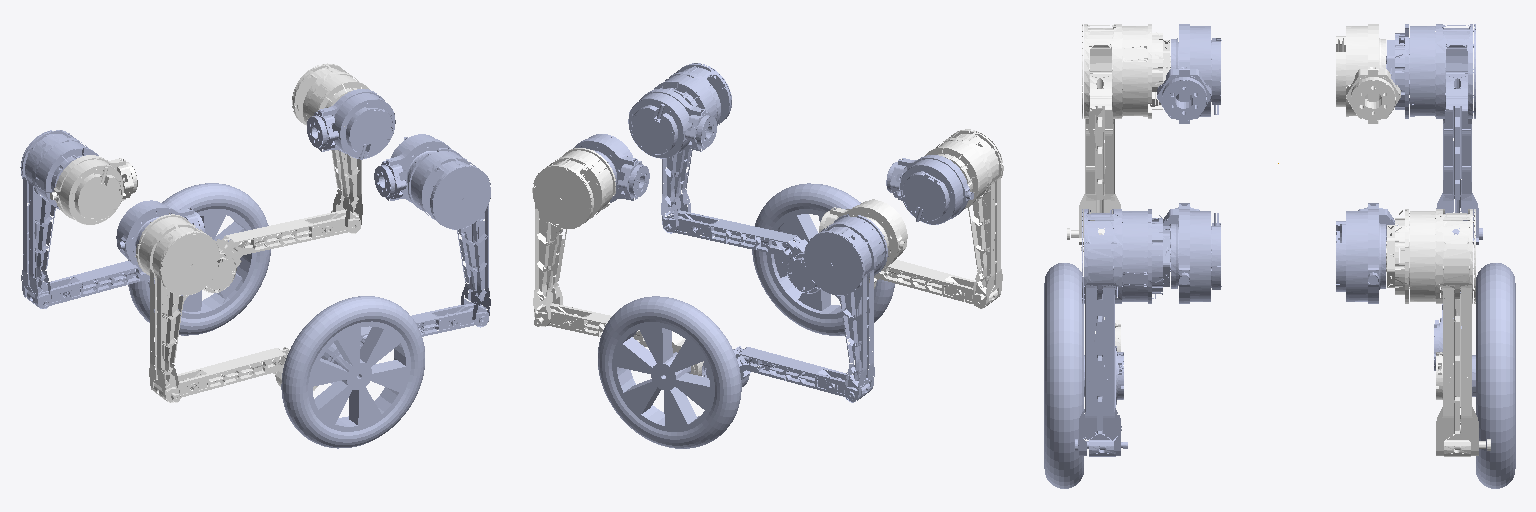
URDF robot description (njust_v2_fixed):
<?xml version="1.0" encoding="utf-8"?>
<robot name="njust_v2_fixed">

    <material name="black">
        <color rgba="0.0 0.0 0.0 1.0"/>
    </material>
    <material name="blue">
        <color rgba="0.0 0.0 0.8 1.0"/>
    </material>
    <material name="green">
        <color rgba="0.0 0.8 0.0 1.0"/>
    </material>
    <material name="grey">
        <color rgba="0.2 0.2 0.2 1.0"/>
    </material>
    <material name="silver">
        <color rgba="0.9137254901960784 0.9137254901960784 0.8470588235294118 1.0"/>
    </material>
    <material name="orange">
        <color rgba="1.0 0.4235294117647059 0.0392156862745098 1.0"/>
    </material>
    <material name="brown">
        <color rgba="0.8705882352941177 0.8117647058823529 0.7647058823529411 1.0"/>
    </material>
    <material name="red">
        <color rgba="0.8 0.0 0.0 1.0"/>
    </material>
    <material name="white">
        <color rgba="1.0 1.0 1.0 1.0"/>
    </material>

    <link name="base">
        <visual>
            <origin rpy="0 0 0" xyz="0 0 0"/>
            <geometry>
                <box size="0.001 0.001 0.001"/>
            </geometry>
        </visual>
    </link>
    <joint name="floating_base" type="fixed">
        <origin rpy="0 0 0" xyz="0 0 0"/>
        <parent link="base"/>
        <child link="trunk"/>
    </joint>
    <link name="trunk">
        <visual>
            <origin rpy="0 0 0" xyz="0 0 0"/>
            <geometry>
                <mesh filename="package://lcm_tools/meshes/base_link_sensors.STL" scale="1 1 1"/>
            </geometry>
            <material name="orange"/>
        </visual>
        <collision>
            <origin rpy="0 0 0" xyz="0 0 0"/>
            <geometry>
                <mesh filename="package://lcm_tools/meshes/base_link_sensors.STL" scale="1 1 1"/>
            </geometry>
            <material name="orange"/>
        </collision>
        <!-- <collision>
            <geometry>
            <box size="0.234 0.184 0.08"/>
            </geometry>
        </collision> -->
        <inertial>
            <origin rpy="0 0 0" xyz="0 0 0"/>
            <mass value="22.002"/>
            <inertia ixx="0.36727" ixy="0.000499" ixz="0.001511" iyy="0.58761" iyz="0.0028" izz="0.83428"/>
        </inertial>
    </link>
    <joint name="imu_joint" type="fixed">
        <parent link="trunk"/>
        <child link="imu_link"/>
        <origin rpy="0 0 0" xyz="0 0 0"/>
    </joint>
    <link name="imu_link">
        <inertial>
            <mass value="0.001"/>
            <origin rpy="0 0 0" xyz="0 0 0"/>
            <inertia ixx="0.0001" ixy="0" ixz="0" iyy="0.0001" iyz="0" izz="0.0001"/>
        </inertial>
        <visual>
            <origin rpy="0 0 0" xyz="0 0 0"/>
            <geometry>
                <box size="0.001 0.001 0.001"/>
            </geometry>
            <material name="red"/>
        </visual>
        <collision>
            <origin rpy="0 0 0" xyz="0 0 0"/>
            <geometry>
                <box size=".001 .001 .001"/>
            </geometry>
        </collision>
    </link>

    <link name="FR_hip">
        <inertial>
            <origin rpy="0 0 0" xyz="0 0 0"/>
            <mass value="1.9984"/>
            <inertia ixx="0.003256" ixy="1E-05" ixz="6E-06" iyy="0.005207" iyz="1.8E-05" izz="0.004451"/>
        </inertial>
        <visual>
            <origin rpy="0 0 0" xyz="0 0 0"/>
            <geometry>
                <mesh filename="package://lcm_tools/meshes/FR_hip.STL"/>
            </geometry>
            <material name="">
                <color rgba="0.79608 0.82353 0.93725 1"/>
            </material>
        </visual>
        <collision>
            <origin rpy="0 0 0" xyz="0 0 0"/>
            <geometry>
                <mesh filename="package://lcm_tools/meshes/FR_hip.STL"/>
            </geometry>
        </collision>
    </link>
    <joint name="FR_hip_joint" type="revolute">
        <origin rpy="0 0 0" xyz="0.29 -0.125 0"/>
        <parent link="trunk"/>
        <child link="FR_hip"/>
        <axis xyz="1 0 0"/>
        <limit effort="120" lower="-2.0943951023931953" upper="2.0943951023931953" velocity="10"/>
    </joint>
    <link name="FR_thigh">
        <inertial>
            <origin rpy="0 0 0" xyz="0 0 0"/>
            <mass value="2.375"/>
            <inertia ixx="0.017933" ixy="1.2E-05" ixz="0.002123" iyy="0.014218" iyz="5E-06" izz="0.009414"/>
        </inertial>
        <visual>
            <origin rpy="0 0 0" xyz="0 0 0"/>
            <geometry>
                <mesh filename="package://lcm_tools/meshes/FR_thigh.STL"/>
            </geometry>
            <material name="">
                <color rgba="0.79608 0.82353 0.93725 1"/>
            </material>
        </visual>
        <collision>
            <origin rpy="0 0 0" xyz="0 0 0"/>
            <geometry>
                <mesh filename="package://lcm_tools/meshes/FR_thigh.STL"/>
            </geometry>
        </collision>
    </link>
    <joint name="FR_thigh_joint" type="revolute">
        <origin rpy="0 0 0" xyz="0 -0.1115 0"/>
        <parent link="FR_hip"/>
        <child link="FR_thigh"/>
        <axis xyz="0 1 0"/>
        <limit effort="120" lower="-3.490658503988659" upper="0.3490658503988659" velocity="10"/>
    </joint>
    <link name="FR_calf">
        <inertial>
            <origin rpy="0 0 0" xyz="0 0 0"/>
            <mass value="0.66013"/>
            <inertia ixx="0.020461" ixy="5E-06" ixz="0.001151" iyy="0.020648" iyz="0.000173" izz="0.000334"/>
        </inertial>
        <visual>
            <origin rpy="0 0 0" xyz="0 0 0"/>
            <geometry>
                <mesh filename="package://lcm_tools/meshes/FR_calf.STL"/>
            </geometry>
            <material name="">
                <color rgba="0.79608 0.82353 0.93725 1"/>
            </material>
        </visual>
        <collision>
            <origin rpy="0 0 0" xyz="0 0 0"/>
            <geometry>
                <mesh filename="package://lcm_tools/meshes/FR_calf.STL"/>
            </geometry>
        </collision>
    </link>
    <joint name="FR_calf_joint" type="revolute">
        <origin rpy="0 0 0" xyz="0.040673 0 -0.2568"/>
        <parent link="FR_thigh"/>
        <child link="FR_calf"/>
        <axis xyz="0 1 0"/>
        <limit effort="120" lower="0.4363323129985824" upper="2.7576202181510405" velocity="10"/>
    </joint>
    <link name="FR_wheel">
        <inertial>
            <origin rpy="0 0 0" xyz="0 0 0"/>
            <mass value="2.4127"/>
            <inertia ixx="0.006334" ixy="0" ixz="0" iyy="0.011762" iyz="0" izz="0.006334"/>
        </inertial>
        <visual>
            <origin rpy="0 0 0" xyz="0 0 0"/>
            <geometry>
                <mesh filename="package://lcm_tools/meshes/FR_wheel_B.STL"/>
            </geometry>
            <material name="">
                <color rgba="0.79608 0.82353 0.93725 1"/>
            </material>
        </visual>
        <collision>
            <origin rpy="0 0 0" xyz="0 0 0"/>
            <geometry>
                <mesh filename="package://lcm_tools/meshes/FR_wheel_B.STL"/>
            </geometry>
        </collision>
    </link>
    <joint name="FR_wheel_joint" type="revolute">
        <origin rpy="0 0 0" xyz="0.039618 -0.047304 -0.28534"/>
        <parent link="FR_calf"/>
        <child link="FR_wheel"/>
        <axis xyz="0 1 0"/>
        <dynamics damping="0" friction="0"/>
        <limit effort="17" velocity="32"/>
    </joint>
    <link name="FL_hip">
        <inertial>
            <origin rpy="0 0 0" xyz="0 0 0"/>
            <mass value="1.9984"/>
            <inertia ixx="0.003256" ixy="1E-05" ixz="6E-06" iyy="0.005207" iyz="1.8E-05" izz="0.004451"/>
        </inertial>
        <visual>
            <origin rpy="0 0 0" xyz="0 0 0"/>
            <geometry>
                <mesh filename="package://lcm_tools/meshes/FL_hip.STL"/>
            </geometry>
            <material name="">
                <color rgba="0.79608 0.82353 0.93725 1"/>
            </material>
        </visual>
        <collision>
            <origin rpy="0 0 0" xyz="0 0 0"/>
            <geometry>
                <mesh filename="package://lcm_tools/meshes/FL_hip.STL"/>
            </geometry>
        </collision>
    </link>

    <joint name="FL_hip_joint" type="revolute">
        <origin rpy="0 0 0" xyz="0.29 0.125 0"/>
        <parent link="trunk"/>
        <child link="FL_hip"/>
        <axis xyz="1 0 0"/>
        <limit effort="120" lower="-2.0943951023931953" upper="2.0943951023931953" velocity="10"/>
    </joint>
    <link name="FL_thigh">
        <inertial>
            <origin rpy="0 0 0" xyz="0 0 0"/>
            <mass value="2.375"/>
            <inertia ixx="0.01793" ixy="1E-06" ixz="0.002121" iyy="0.014218" iyz="1E-05" izz="0.009417"/>
        </inertial>
        <visual>
            <origin rpy="0 0 0" xyz="0 0 0"/>
            <geometry>
                <mesh filename="package://lcm_tools/meshes/FL_thigh.STL"/>
            </geometry>
            <material name="">
                <color rgba="1 1 1 1"/>
            </material>
        </visual>
        <collision>
            <origin rpy="0 0 0" xyz="0 0 0"/>
            <geometry>
                <mesh filename="package://lcm_tools/meshes/FL_thigh.STL"/>
            </geometry>
        </collision>
    </link>
    <joint name="FL_thigh_joint" type="revolute">
        <origin rpy="0 0 0" xyz="0 0.1115 0"/>
        <parent link="FL_hip"/>
        <child link="FL_thigh"/>
        <axis xyz="0 1 0"/>
        <limit effort="120" lower="-3.490658503988659" upper="0.3490658503988659" velocity="10"/>
    </joint>
    <link name="FL_calf">
        <inertial>
            <origin rpy="0 0 0" xyz="0 0 0"/>
            <mass value="0.66013"/>
            <inertia ixx="0.020458" ixy="1.9E-05" ixz="0.001151" iyy="0.020648" iyz="0.000142" izz="0.000331"/>
        </inertial>
        <visual>
            <origin rpy="0 0 0" xyz="0 0 0"/>
            <geometry>
                <mesh filename="package://lcm_tools/meshes/FL_calf.STL"/>
            </geometry>
            <material name="">
                <color rgba="1 1 1 1"/>
            </material>
        </visual>
        <collision>
            <origin rpy="0 0 0" xyz="0 0 0"/>
            <geometry>
                <mesh filename="package://lcm_tools/meshes/FL_calf.STL"/>
            </geometry>
        </collision>
    </link>
    <joint name="FL_calf_joint" type="revolute">
        <origin rpy="0 0 0" xyz="0.040673 0 -0.2568"/>
        <parent link="FL_thigh"/>
        <child link="FL_calf"/>
        <axis xyz="0 1 0"/>
        <limit effort="120" lower="0.4363323129985824" upper="2.7576202181510405" velocity="10"/>
    </joint>
    <link name="FL_wheel">
        <inertial>
            <origin rpy="0 0 0" xyz="0 0 0"/>
            <mass value="2.4127"/>
            <inertia ixx="0.006334" ixy="0" ixz="0" iyy="0.011762" iyz="0" izz="0.006334"/>
        </inertial>
        <visual>
            <origin rpy="0 0 0" xyz="0 0 0"/>
            <geometry>
                <mesh filename="package://lcm_tools/meshes/FL_wheel_B.STL"/>
            </geometry>
            <material name="">
                <color rgba="0.79608 0.82353 0.93725 1"/>
            </material>
        </visual>
        <collision>
            <origin rpy="0 0 0" xyz="0 0 0"/>
            <geometry>
                <mesh filename="package://lcm_tools/meshes/FL_wheel_B.STL"/>
            </geometry>
        </collision>
    </link>
    <joint name="FL_wheel_joint" type="revolute">
        <origin rpy="0 0 0" xyz="0.039618 0.0505 -0.28534"/>
        <parent link="FL_calf"/>
        <child link="FL_wheel"/>
        <axis xyz="0 -1 0"/>
        <dynamics damping="0" friction="0"/>
        <limit effort="17" velocity="32"/>
    </joint>

    <link name="RR_hip">
        <inertial>
            <origin rpy="0 0 0" xyz="0 0 0"/>
            <mass value="1.9984"/>
            <inertia ixx="0.003256" ixy="1E-05" ixz="6E-06" iyy="0.005207" iyz="1.8E-05" izz="0.004451"/>
        </inertial>
        <visual>
            <origin rpy="0 0 0" xyz="0 0 0"/>
            <geometry>
                <mesh filename="package://lcm_tools/meshes/RR_hip.STL"/>
            </geometry>
            <material name="">
                <color rgba="0.79608 0.82353 0.93725 1"/>
            </material>
        </visual>
        <collision>
            <origin rpy="0 0 0" xyz="0 0 0"/>
            <geometry>
                <mesh filename="package://lcm_tools/meshes/RR_hip.STL"/>
            </geometry>
        </collision>
    </link>
    <joint name="RR_hip_joint" type="revolute">
        <origin rpy="0 0 0" xyz="-0.29 -0.125 0"/>
        <parent link="trunk"/>
        <child link="RR_hip"/>
        <axis xyz="1 0 0"/>
        <limit effort="120" lower="-2.0943951023931953" upper="2.0943951023931953" velocity="10"/>
    </joint>
    <link name="RR_thigh">
        <inertial>
            <origin rpy="0 0 0" xyz="0 0 0"/>
            <mass value="2.375"/>
            <inertia ixx="0.01793" ixy="1E-06" ixz="0.002121" iyy="0.014218" iyz="1E-05" izz="0.009417"/>
        </inertial>
        <visual>
            <origin rpy="0 0 0" xyz="0 0 0"/>
            <geometry>
                <mesh filename="package://lcm_tools/meshes/RR_thigh.STL"/>
            </geometry>
            <material name="">
                <color rgba="1 1 1 1"/>
            </material>
        </visual>
        <collision>
            <origin rpy="0 0 0" xyz="0 0 0"/>
            <geometry>
                <mesh filename="package://lcm_tools/meshes/RR_thigh.STL"/>
            </geometry>
        </collision>
    </link>
    <joint name="RR_thigh_joint" type="revolute">
        <origin rpy="0 0 0" xyz="0 -0.1115 0"/>
        <parent link="RR_hip"/>
        <child link="RR_thigh"/>
        <axis xyz="0 1 0"/>
        <limit effort="120" lower="-0.3490658503988659" upper="3.490658503988659" velocity="10"/>
    </joint>
    <link name="RR_calf">
        <inertial>
            <origin rpy="0 0 0" xyz="0 0 0"/>
            <mass value="0.66013"/>
            <inertia ixx="0.020458" ixy="1.9E-05" ixz="0.001151" iyy="0.020648" iyz="0.000142" izz="0.000331"/>
        </inertial>
        <visual>
            <origin rpy="0 0 0" xyz="0 0 0"/>
            <geometry>
                <mesh filename="package://lcm_tools/meshes/RR_calf.STL"/>
            </geometry>
            <material name="">
                <color rgba="1 1 1 1"/>
            </material>
        </visual>
        <collision>
            <origin rpy="0 0 0" xyz="0 0 0"/>
            <geometry>
                <mesh filename="package://lcm_tools/meshes/RR_calf.STL"/>
            </geometry>
        </collision>
    </link>
    <joint name="RR_calf_joint" type="revolute">
        <origin rpy="0 0 0" xyz="-0.040673 0 -0.2568"/>
        <parent link="RR_thigh"/>
        <child link="RR_calf"/>
        <axis xyz="0 1 0"/>
        <limit effort="120" lower="-2.7576202181510405" upper="-0.4363323129985824" velocity="10"/>
    </joint>
    <link name="RR_wheel">
        <inertial>
            <origin rpy="0 0 0" xyz="0 0 0"/>
            <mass value="2.4127"/>
            <inertia ixx="0.006334" ixy="0" ixz="0" iyy="0.011762" iyz="0" izz="0.006334"/>
        </inertial>
        <visual>
            <origin rpy="0 0 0" xyz="0 0 0"/>
            <geometry>
                <mesh filename="package://lcm_tools/meshes/RR_wheel_B.STL"/>
            </geometry>
            <material name="">
                <color rgba="0.79608 0.82353 0.93725 1"/>
            </material>
        </visual>
        <collision>
            <origin rpy="0 0 0" xyz="0 0 0"/>
            <geometry>
                <mesh filename="package://lcm_tools/meshes/RR_wheel_B.STL"/>
            </geometry>
        </collision>
    </link>
    <joint name="RR_wheel_joint" type="revolute">
        <origin rpy="0 0 0" xyz="-0.039618 -0.0505 -0.28534"/>
        <parent link="RR_calf"/>
        <child link="RR_wheel"/>
        <axis xyz="0 1 0"/>
        <dynamics damping="0" friction="0"/>
        <limit effort="17" velocity="32"/>
    </joint>

    <link name="RL_hip">
        <inertial>
            <origin rpy="0 0 0" xyz="0 0 0"/>
            <mass value="1.9984"/>
            <inertia ixx="0.003256" ixy="1E-05" ixz="6E-06" iyy="0.005207" iyz="1.8E-05" izz="0.004451"/>
        </inertial>
        <visual>
            <origin rpy="0 0 0" xyz="0 0 0"/>
            <geometry>
                <mesh filename="package://lcm_tools/meshes/RL_hip.STL"/>
            </geometry>
            <material name="">
                <color rgba="1 1 1 1"/>
            </material>
        </visual>
        <collision>
            <origin rpy="0 0 0" xyz="0 0 0"/>
            <geometry>
                <mesh filename="package://lcm_tools/meshes/RL_hip.STL"/>
            </geometry>
        </collision>
    </link>
    <joint name="RL_hip_joint" type="revolute">
        <origin rpy="0 0 0" xyz="-0.29 0.125 0"/>
        <parent link="trunk"/>
        <child link="RL_hip"/>
        <axis xyz="1 0 0"/>
        <limit effort="120" lower="-2.0943951023931953" upper="2.0943951023931953" velocity="10"/>
    </joint>
    <link name="RL_thigh">
        <inertial>
            <origin rpy="0 0 0" xyz="0 0 0"/>
            <mass value="2.375"/>
            <inertia ixx="0.017933" ixy="1.2E-05" ixz="0.002123" iyy="0.014218" iyz="5E-06" izz="0.009414"/>
        </inertial>
        <visual>
            <origin rpy="0 0 0" xyz="0 0 0"/>
            <geometry>
                <mesh filename="package://lcm_tools/meshes/RL_thigh.STL"/>
            </geometry>
            <material name="">
                <color rgba="0.79608 0.82353 0.93725 1"/>
            </material>
        </visual>
        <collision>
            <origin rpy="0 0 0" xyz="0 0 0"/>
            <geometry>
                <mesh filename="package://lcm_tools/meshes/RL_thigh.STL"/>
            </geometry>
        </collision>
    </link>
    <joint name="RL_thigh_joint" type="revolute">
        <origin rpy="0 0 0" xyz="0 0.1115 0"/>
        <parent link="RL_hip"/>
        <child link="RL_thigh"/>
        <axis xyz="0 1 0"/>
        <limit effort="120" lower="-0.3490658503988659" upper="3.490658503988659" velocity="10"/>
    </joint>
    <link name="RL_calf">
        <inertial>
            <origin rpy="0 0 0" xyz="0 0 0"/>
            <mass value="0.66013"/>
            <inertia ixx="0.020461" ixy="5E-06" ixz="0.001151" iyy="0.020648" iyz="0.000173" izz="0.000334"/>
        </inertial>
        <visual>
            <origin rpy="0 0 0" xyz="0 0 0"/>
            <geometry>
                <mesh filename="package://lcm_tools/meshes/RL_calf.STL"/>
            </geometry>
            <material name="">
                <color rgba="0.79608 0.82353 0.93725 1"/>
            </material>
        </visual>
        <collision>
            <origin rpy="0 0 0" xyz="0 0 0"/>
            <geometry>
                <mesh filename="package://lcm_tools/meshes/RL_calf.STL"/>
            </geometry>
        </collision>
    </link>
    <joint name="RL_calf_joint" type="revolute">
        <origin rpy="0 0 0" xyz="-0.040673 0 -0.2568"/>
        <parent link="RL_thigh"/>
        <child link="RL_calf"/>
        <axis xyz="0 1 0"/>
        <limit effort="120" lower="-2.7576202181510405" upper="-0.4363323129985824" velocity="10"/>
    </joint>
    <link name="RL_wheel">
        <inertial>
            <origin rpy="0 0 0" xyz="0 0 0"/>
            <mass value="2.4127"/>
            <inertia ixx="0.006334" ixy="0" ixz="0" iyy="0.011762" iyz="0" izz="0.006334"/>
        </inertial>
        <visual>
            <origin rpy="0 0 0" xyz="0 0 0"/>
            <geometry>
                <mesh filename="package://lcm_tools/meshes/RL_wheel_B.STL"/>
            </geometry>
            <material name="">
                <color rgba="0.79608 0.82353 0.93725 1"/>
            </material>
        </visual>
        <collision>
            <origin rpy="0 0 0" xyz="0 0 0"/>
            <geometry>
                <mesh filename="package://lcm_tools/meshes/RL_wheel_B.STL"/>
            </geometry>
        </collision>
    </link>
    <joint name="RL_wheel_joint" type="revolute">
        <origin rpy="0 0 0" xyz="-0.039618 0.047304 -0.28534"/>
        <parent link="RL_calf"/>
        <child link="RL_wheel"/>
        <axis xyz="0 -1 0"/>
        <dynamics damping="0" friction="0"/>
        <limit effort="17" velocity="32"/>
    </joint>

</robot>

--- Facts derived from the render (not from the file) ---
Views: 3 orthographic renders of the robot side by side, from view 1: azimuth 30°, elevation 25°; view 2: azimuth 150°, elevation 25°; view 3: azimuth 270°, elevation 25°.
Model njust_v2_fixed with 19 links and 18 joints (16 revolute, 2 fixed), rooted at base, posed joints at zero except 4 at the middle of their limits (FR_calf_joint = 1.6, FL_calf_joint = 1.6, RR_calf_joint = -1.6, RL_calf_joint = -1.6).
Visible links, largest first — view 1: FR_wheel, RR_thigh, FR_thigh, FL_wheel, RL_thigh, FL_hip, RL_hip, FL_thigh, FL_calf, RR_calf, RL_calf, FR_hip (+2 smaller); view 2: FL_wheel, RL_thigh, FL_thigh, FR_wheel, RR_thigh, FR_hip, RR_hip, FR_thigh, FR_calf, RL_calf, RR_calf, FL_hip (+2 smaller); view 3: FL_thigh, FR_thigh, RR_thigh, RL_thigh, FL_wheel, FR_wheel, RL_hip, RR_hip, FL_hip, FR_hip, FR_calf, FL_calf.
Boxes of the visible links, x1=… form: FR_wheel: x1=281, y1=296, x2=424, y2=448; RR_thigh: x1=135, y1=213, x2=219, y2=402; FR_thigh: x1=408, y1=148, x2=490, y2=327; FL_wheel: x1=128, y1=183, x2=270, y2=335; RL_thigh: x1=20, y1=130, x2=98, y2=308; FL_hip: x1=307, y1=89, x2=395, y2=159; RL_hip: x1=50, y1=155, x2=137, y2=224; FL_thigh: x1=292, y1=63, x2=369, y2=233; FL_calf: x1=203, y1=210, x2=356, y2=292; RR_calf: x1=153, y1=347, x2=317, y2=402; RL_calf: x1=27, y1=261, x2=189, y2=307; FR_hip: x1=374, y1=134, x2=450, y2=202; FL_wheel: x1=598, y1=296, x2=741, y2=448; RL_thigh: x1=804, y1=214, x2=888, y2=402; FL_thigh: x1=532, y1=147, x2=615, y2=326; FR_wheel: x1=752, y1=183, x2=894, y2=335; RR_thigh: x1=925, y1=129, x2=1003, y2=308; FR_hip: x1=628, y1=88, x2=716, y2=158; RR_hip: x1=886, y1=155, x2=973, y2=224; FR_thigh: x1=654, y1=63, x2=731, y2=233; FR_calf: x1=664, y1=210, x2=820, y2=293; RL_calf: x1=702, y1=346, x2=870, y2=399; RR_calf: x1=869, y1=260, x2=997, y2=305; FL_hip: x1=573, y1=134, x2=649, y2=202; FL_thigh: x1=1386, y1=209, x2=1478, y2=455; FR_thigh: x1=1079, y1=209, x2=1170, y2=455; RR_thigh: x1=1079, y1=24, x2=1170, y2=244; RL_thigh: x1=1386, y1=24, x2=1478, y2=244; FL_wheel: x1=1472, y1=263, x2=1515, y2=488; FR_wheel: x1=1044, y1=263, x2=1084, y2=488; RL_hip: x1=1336, y1=24, x2=1400, y2=123; RR_hip: x1=1157, y1=24, x2=1221, y2=123; FL_hip: x1=1336, y1=203, x2=1397, y2=303; FR_hip: x1=1163, y1=203, x2=1221, y2=303; FR_calf: x1=1075, y1=346, x2=1127, y2=456; FL_calf: x1=1436, y1=352, x2=1490, y2=456.
Bounding box of the posed robot: 0.73 × 0.6235 × 0.5022 m (x, y, z).
14 mesh visuals loaded from 17 distinct referenced files (14 binary STL); not drawn: 3 (reference not matched to a file when rendering).
